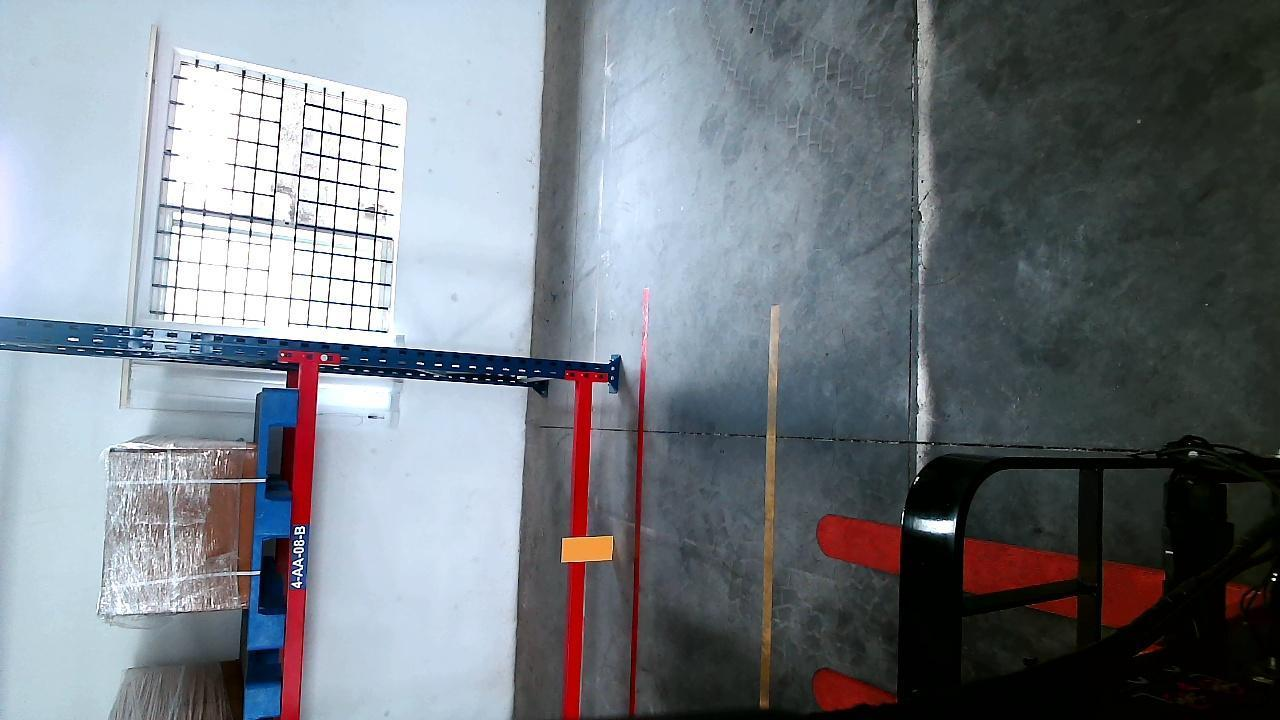h_rack: (280, 362, 321, 711), (564, 369, 596, 717)
orange_strip: (563, 532, 613, 568)
red_line: (625, 288, 655, 719)
small_pallet: (244, 383, 294, 663), (245, 676, 287, 720)
yellow_line: (758, 302, 781, 708)
